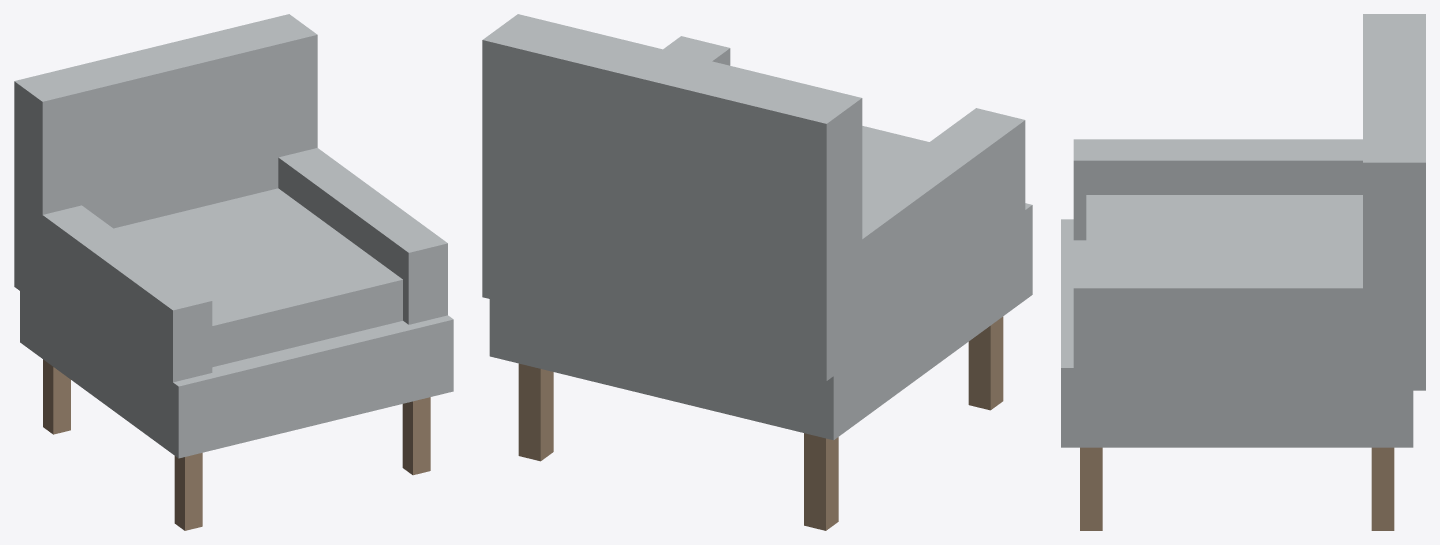
File: accent_chair.glb
3 views of the same model, side by side, from view 1: azimuth 30°, elevation 25°; view 2: azimuth 150°, elevation 25°; view 3: azimuth 270°, elevation 25° (orthographic). The views are drawn at different scales.
Parts seen in each view (by area): view 1: back, seat_base, cushion, arm_l, arm_r, leg (×3); view 2: back, seat_base, arm_l, leg (×3), cushion, arm_r; view 3: arm_r, seat_base, back, cushion, arm_l, leg (×2).
Boxes of the visible parts, x1,y1,x2,y2 form: back: [14, 14, 317, 307]; seat_base: [20, 270, 453, 458]; cushion: [114, 188, 402, 367]; arm_l: [42, 205, 212, 402]; arm_r: [278, 148, 447, 324]; leg (×3): [43, 359, 430, 530]; back: [482, 14, 862, 380]; seat_base: [489, 203, 1032, 440]; arm_l: [860, 108, 1025, 328]; leg (×3): [518, 316, 1003, 530]; cushion: [862, 126, 929, 190]; arm_r: [663, 36, 730, 65]; arm_r: [1073, 267, 1375, 390]; seat_base: [1061, 219, 1413, 447]; back: [1363, 14, 1425, 390]; cushion: [1086, 195, 1362, 266]; arm_l: [1073, 139, 1362, 240]; leg (×2): [1080, 447, 1394, 530].
Bounding box in the file's own units: 0.7112 × 0.8382 × 0.7366.
